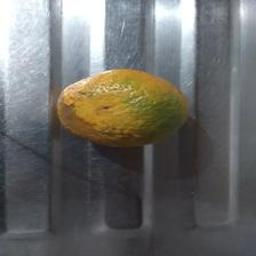Orange Semifresh: (47, 64, 195, 164)
